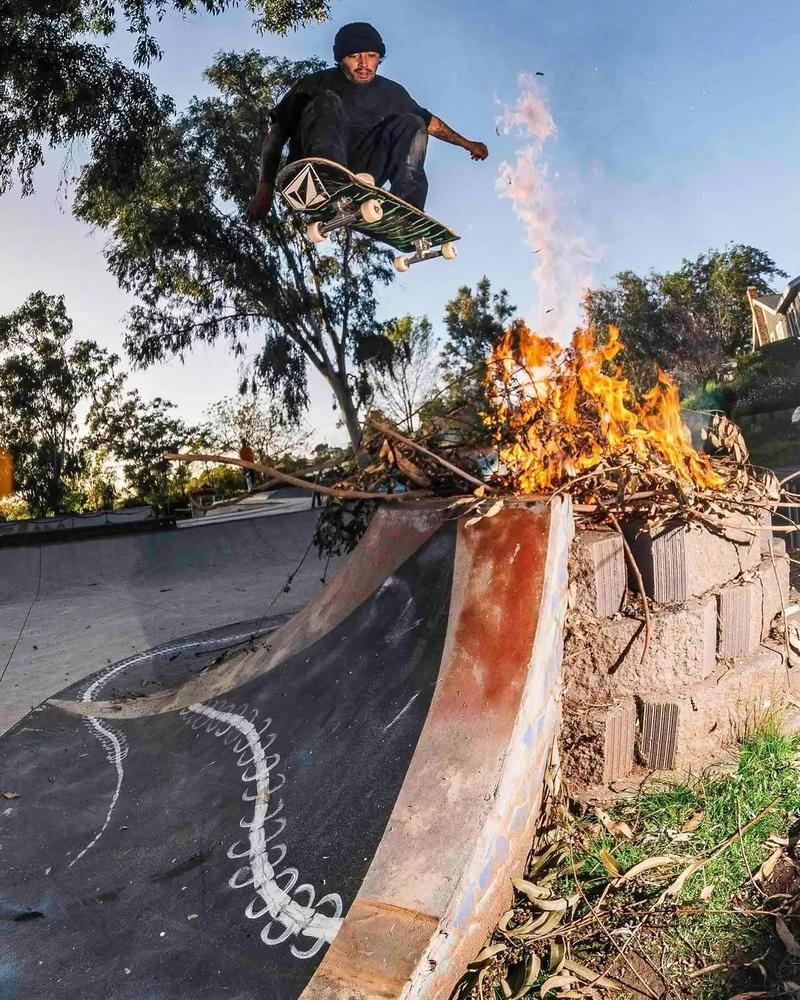fire: (449, 72, 734, 511)
